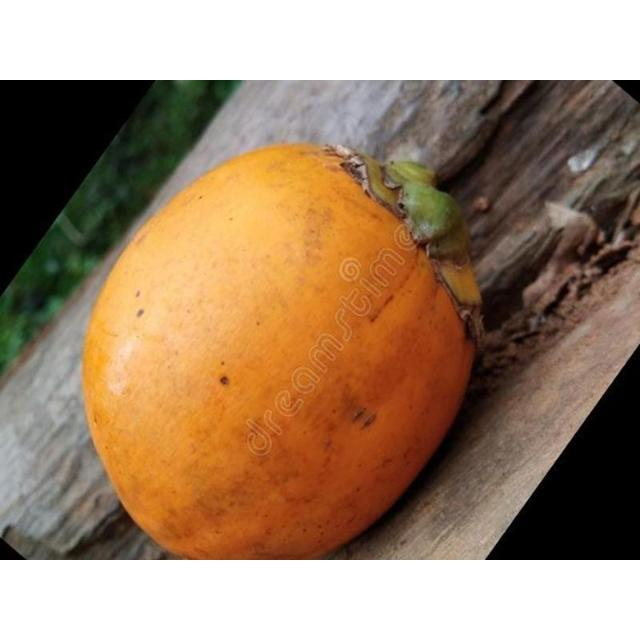good: (77, 143, 480, 559)
